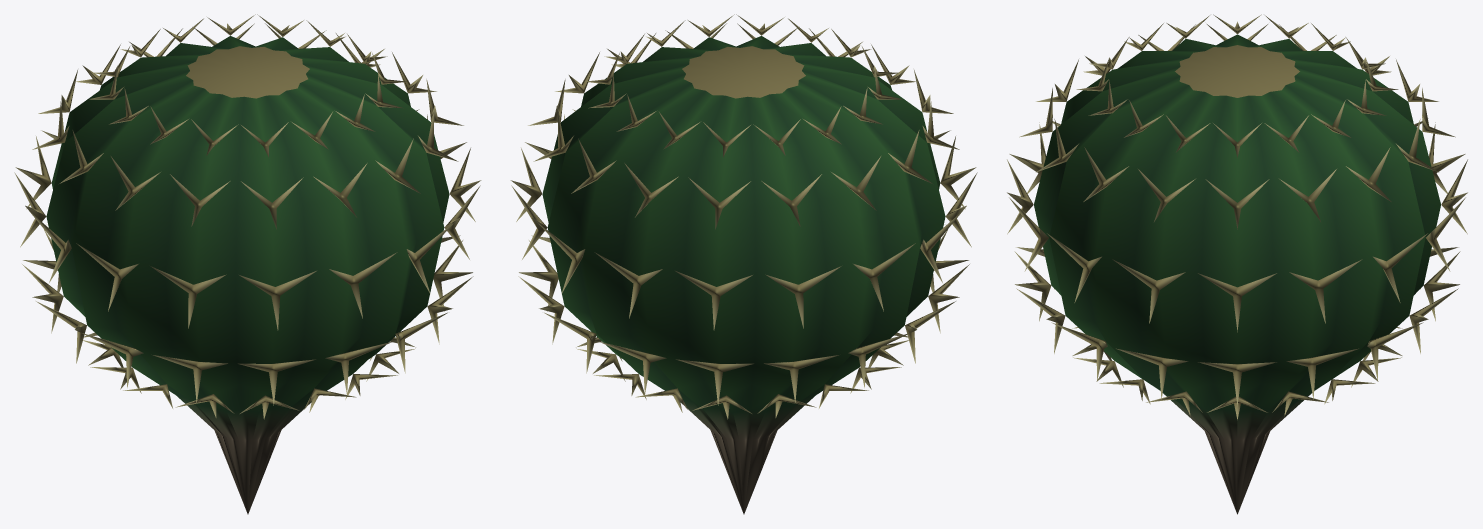
The model's file is plants-cacti-succulents-barrel-cactus_v2.fbx.
The picture shows the model from 3 angles, left to right: view 1: azimuth 30°, elevation 25°; view 2: azimuth 150°, elevation 25°; view 3: azimuth 270°, elevation 25°; orthographic projection.
Visible parts, largest first — view 1: Barrel Cactus_v2; view 2: Barrel Cactus_v2; view 3: Barrel Cactus_v2.
Boxes of the visible parts, x1,y1,x2,y2 form: Barrel Cactus_v2: (14,14,481,514); Barrel Cactus_v2: (510,14,977,514); Barrel Cactus_v2: (1007,14,1467,514).
Size of the model in its own units: 0.4686 by 0.5 by 0.4686.
